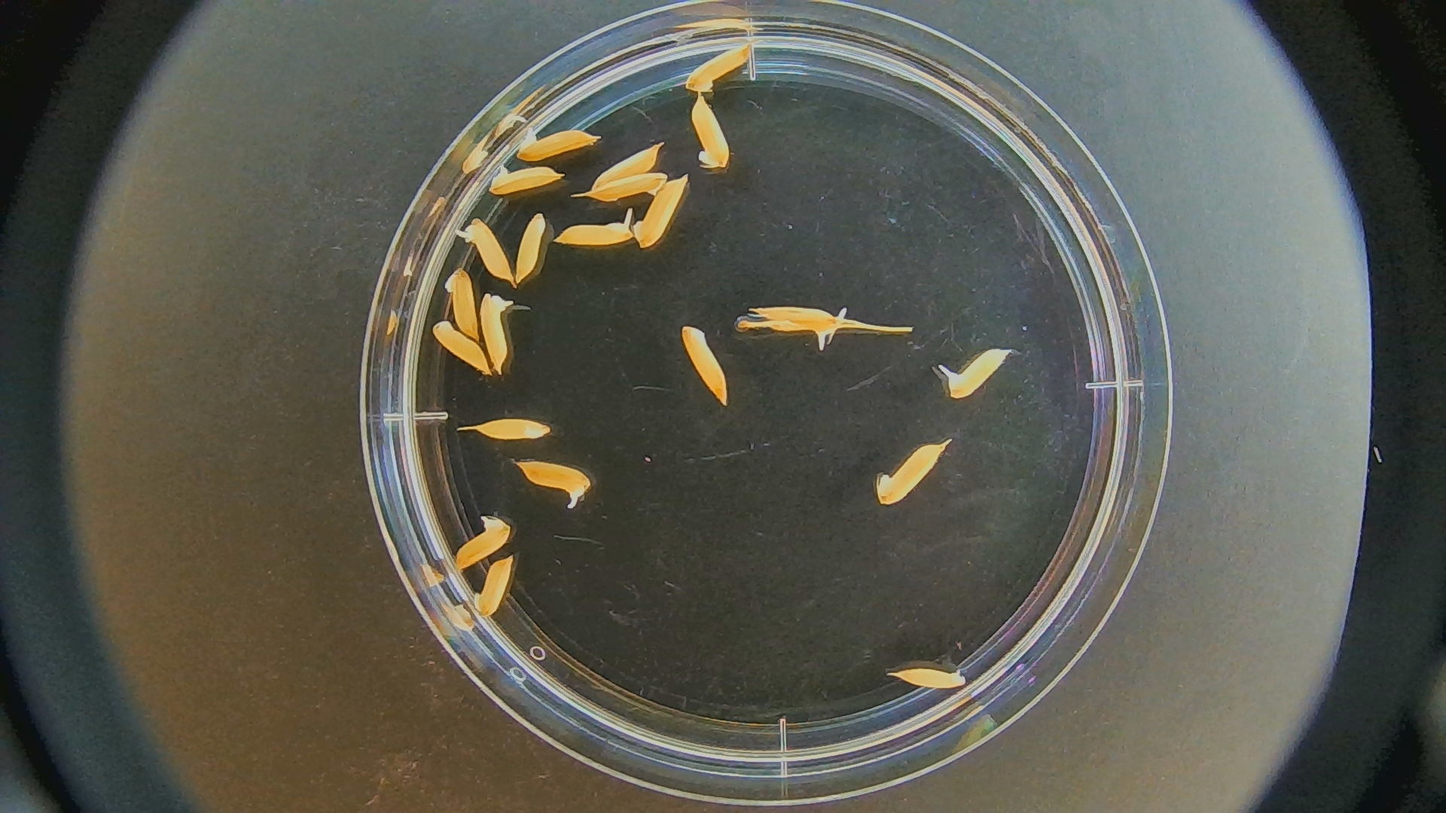no: (631, 175, 688, 252), (874, 443, 942, 507), (680, 325, 733, 406), (680, 43, 751, 92), (449, 517, 511, 568), (511, 211, 550, 289), (474, 555, 523, 617), (691, 97, 734, 166), (432, 324, 490, 372), (491, 163, 567, 199), (592, 149, 657, 190), (590, 169, 671, 201), (444, 267, 480, 338), (479, 413, 550, 445), (895, 663, 966, 691)
yes: (945, 348, 1019, 400), (752, 303, 837, 343), (519, 125, 597, 163), (467, 218, 513, 282), (556, 216, 634, 249), (523, 461, 590, 499), (484, 296, 514, 370)
